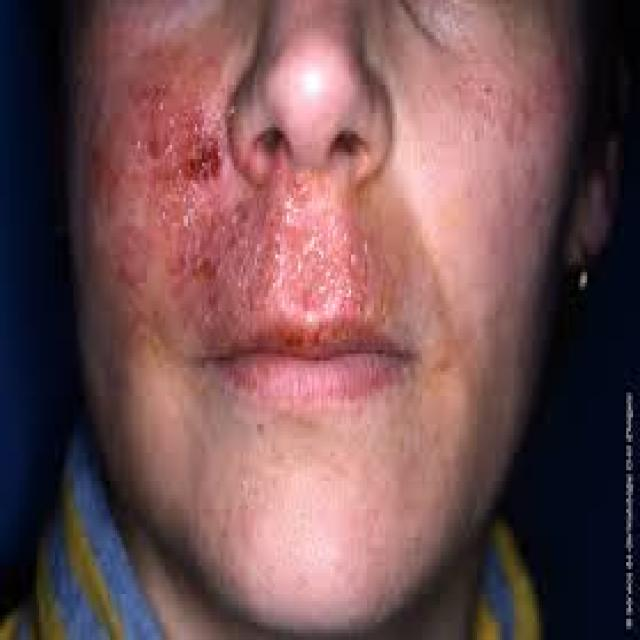Eczema: (106, 53, 432, 350)
